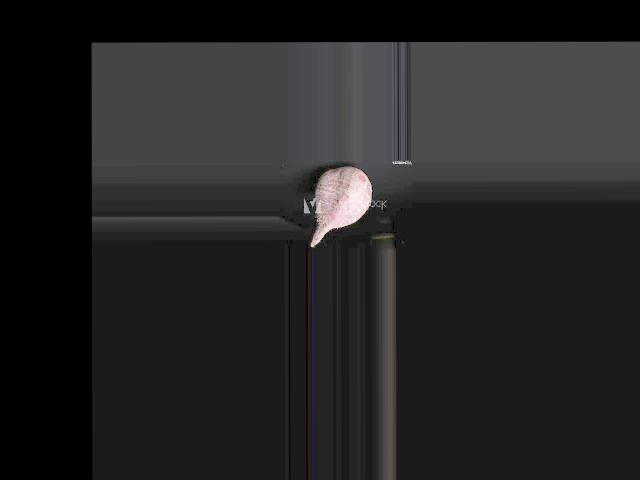beet: (311, 166, 372, 246)
